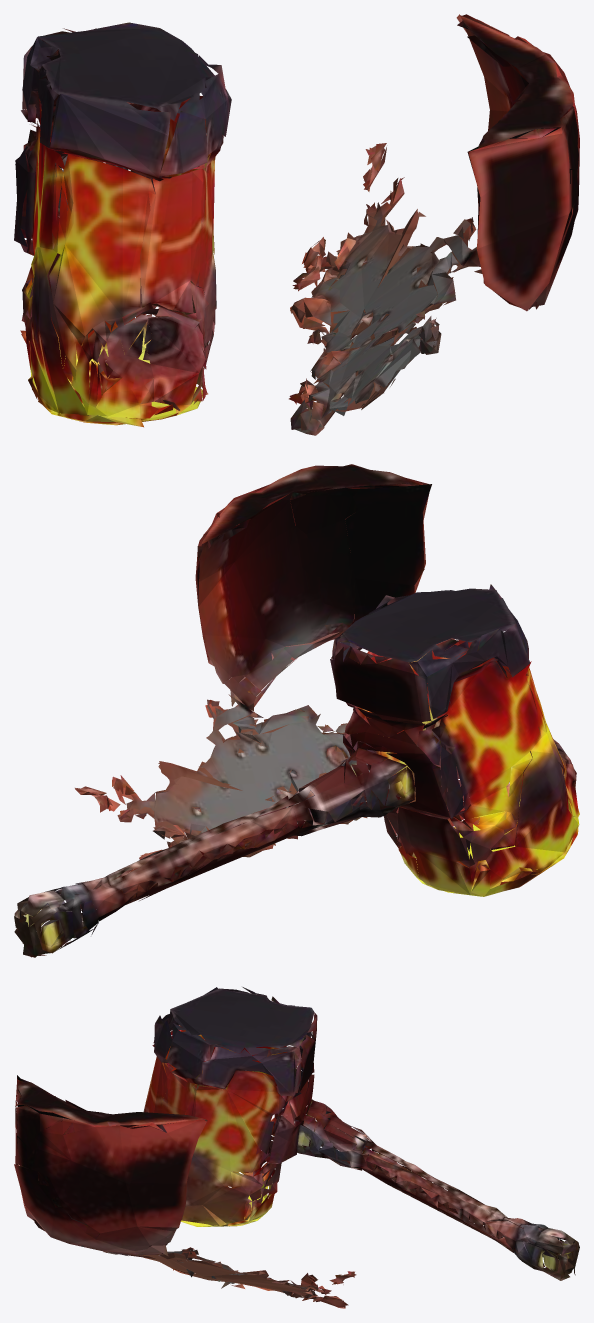
The model's file is quantum_breaker.glb.
The picture shows the model from 3 angles, top to bottom: view 1: azimuth 30°, elevation 25°; view 2: azimuth 150°, elevation 25°; view 3: azimuth 270°, elevation 25°; orthographic projection. The views are drawn at different scales.
Parts seen in each view (by area): view 1: geometry_0; view 2: geometry_0; view 3: geometry_0.
Part boxes in pixels (x1,y1,x2,y2): geometry_0: (14, 14, 579, 435); geometry_0: (14, 464, 579, 957); geometry_0: (14, 987, 579, 1308).
Bounding box in the file's own units: 1.25 × 0.8373 × 2.
1 material, 1 textured.
